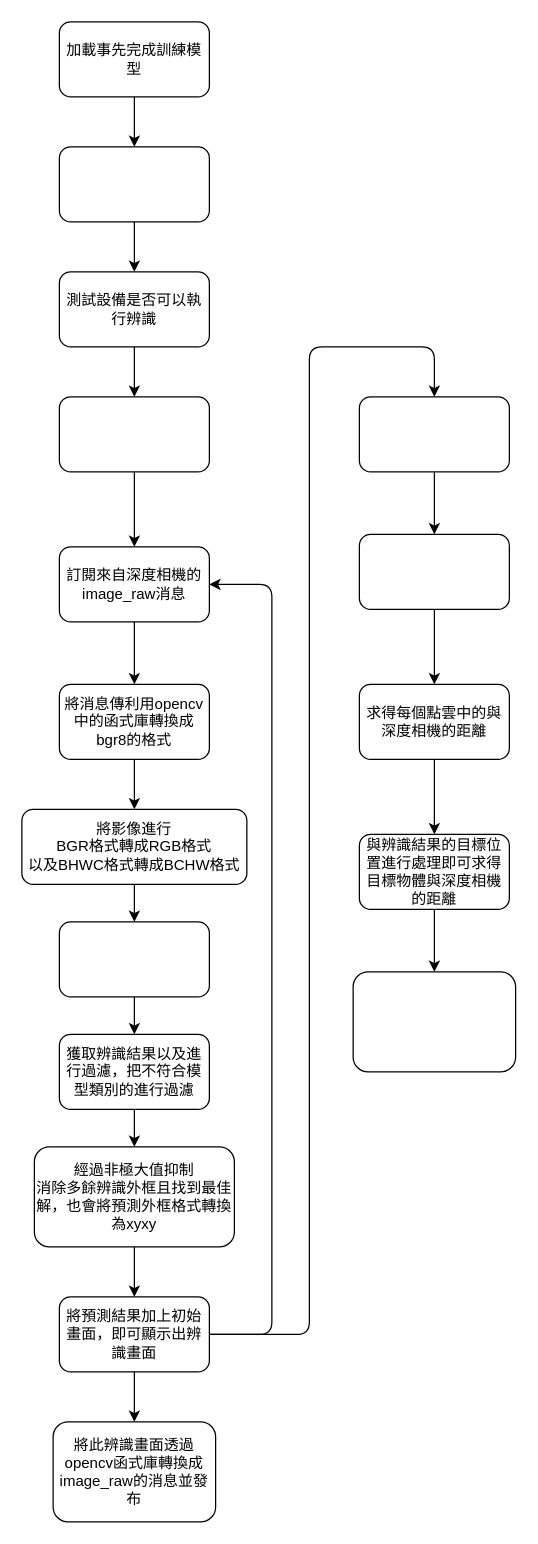
This 538x1544 diagram has some shape labels left out. Here are the shapes that lost their labels. From the top down, the centre of each, then its label:
point (133, 184): 獲取模型類別名稱列表
point (133, 434): 使用空白文件進行初次辨識，測試是否有異常
point (433, 434): 訂閱來自深度相機的PointCloud2消息
point (433, 571): 將點雲進行反序列化處理可得到所有點的笛卡爾座標
point (133, 959): 將影像進行辨識預測
point (434, 1021): 將此結果封裝並轉換成消息透過ros進行發布
